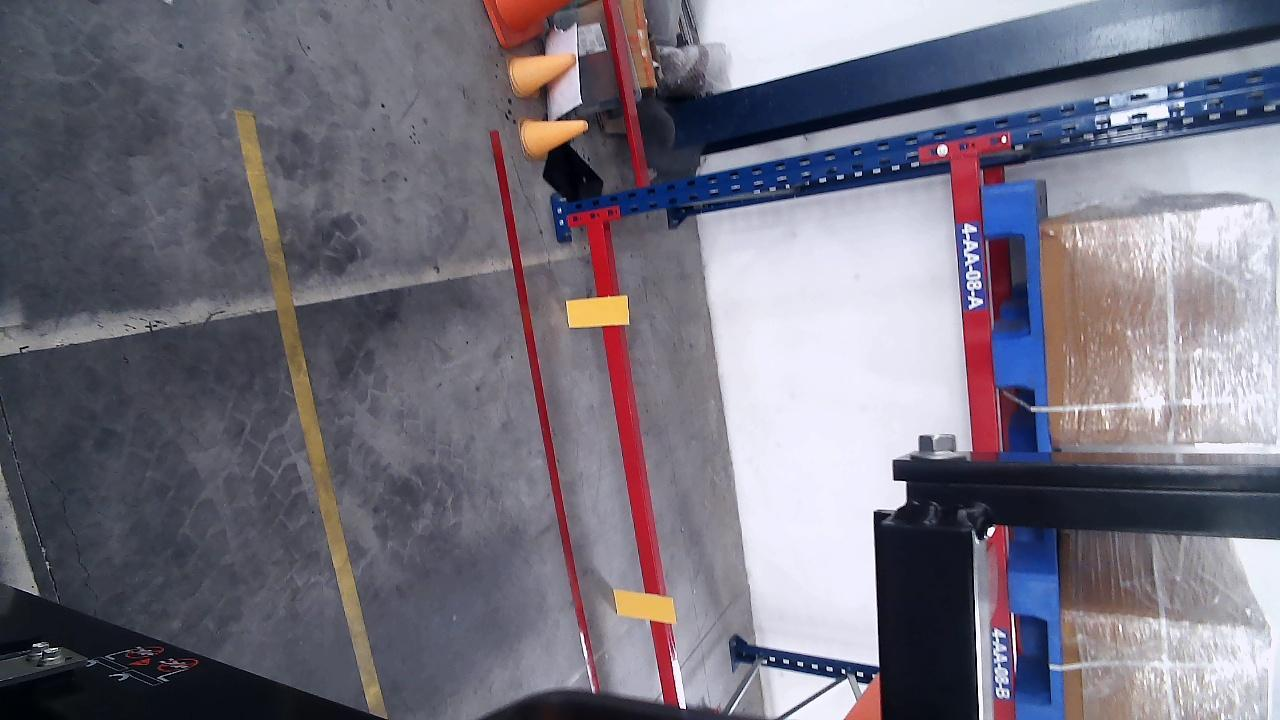h_rack: (585, 221, 679, 708), (950, 156, 1002, 451)
orange_strip: (568, 295, 629, 329), (614, 591, 678, 621)
red_line: (487, 129, 601, 691)
yellow_line: (233, 108, 385, 717)
